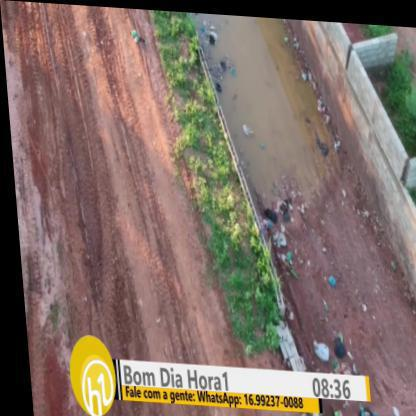agua: (214, 12, 322, 161)
